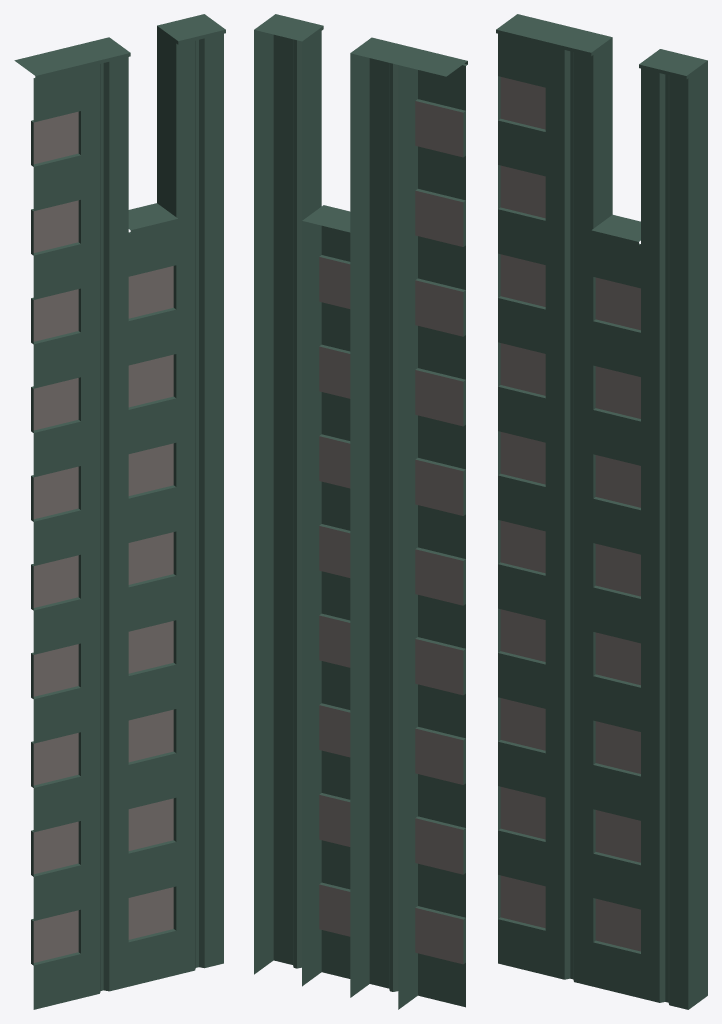
3 renders of one model, left to right at view 1: azimuth 30°, elevation 25°; view 2: azimuth 150°, elevation 25°; view 3: azimuth 330°, elevation 25°, orthographic.
Parts seen in each view (by area): view 1: Column.031; view 2: Column.031; view 3: Column.031.
Boxes of the visible parts, x1,y1,x2,y2 form: Column.031: (14, 14, 225, 1009); Column.031: (254, 14, 467, 1009); Column.031: (496, 14, 707, 1009).
Size of the model in its own units: 1114 by 5230 by 217.
